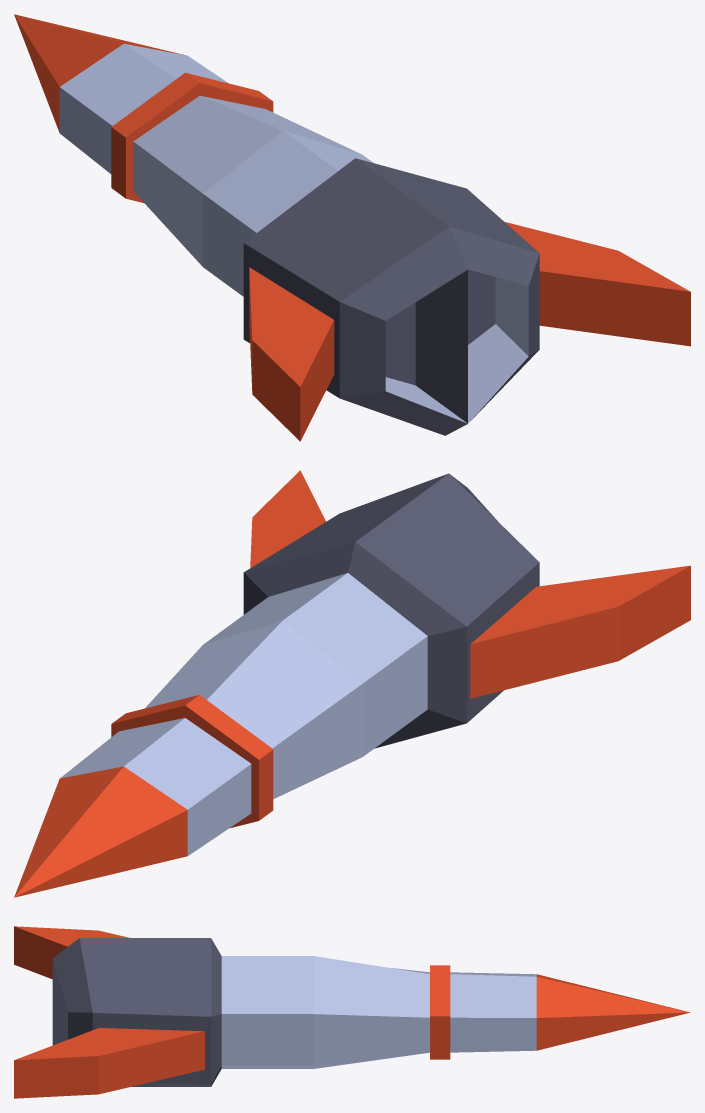
Rendered from ship.fbx.
The picture shows the model from 3 angles, top to bottom: view 1: azimuth 30°, elevation 25°; view 2: azimuth 150°, elevation 25°; view 3: azimuth 270°, elevation 25°; orthographic projection. The views are drawn at different scales.
Parts seen in each view (by area): view 1: Cube; view 2: Cube; view 3: Cube.
Part boxes in pixels (left/top/right/bottom): Cube: left=14, top=14, right=690, bottom=441; Cube: left=14, top=470, right=690, bottom=897; Cube: left=14, top=926, right=690, bottom=1098.
Size of the model in its own units: 140 by 72.52 by 299.
